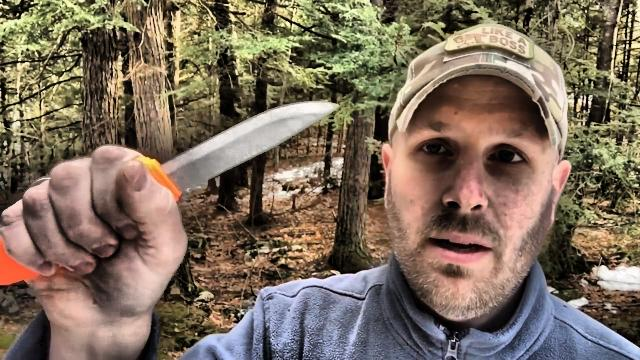knife: (48, 92, 350, 253)
